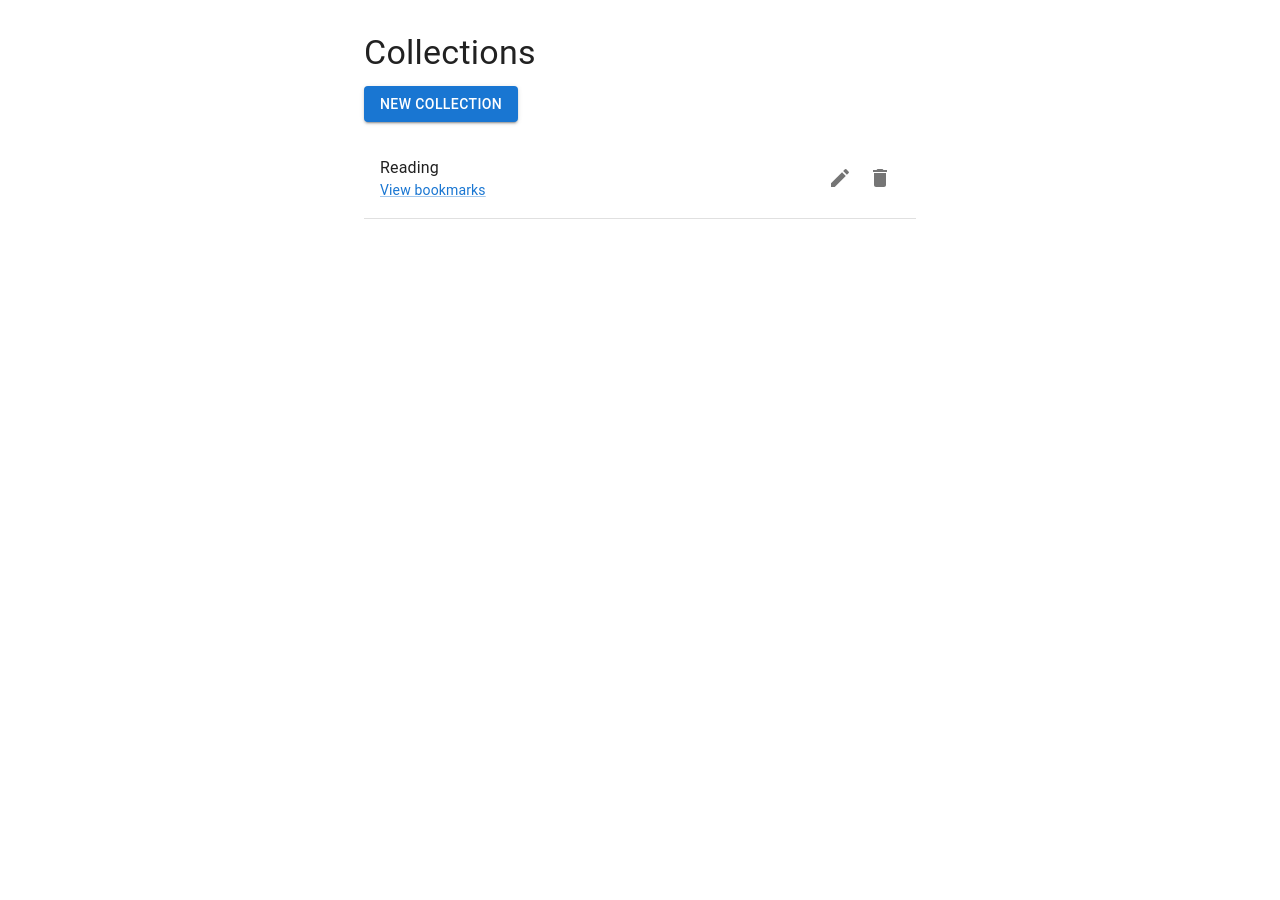
Collections — delete › deletes a collection after confirmation
The width and height of the screenshot is (1280, 900).
expect the text "Reading" is shown: met, box [380, 158, 439, 177]
Click the button named "delete reading".
click(880, 178)  # box [860, 158, 900, 198]
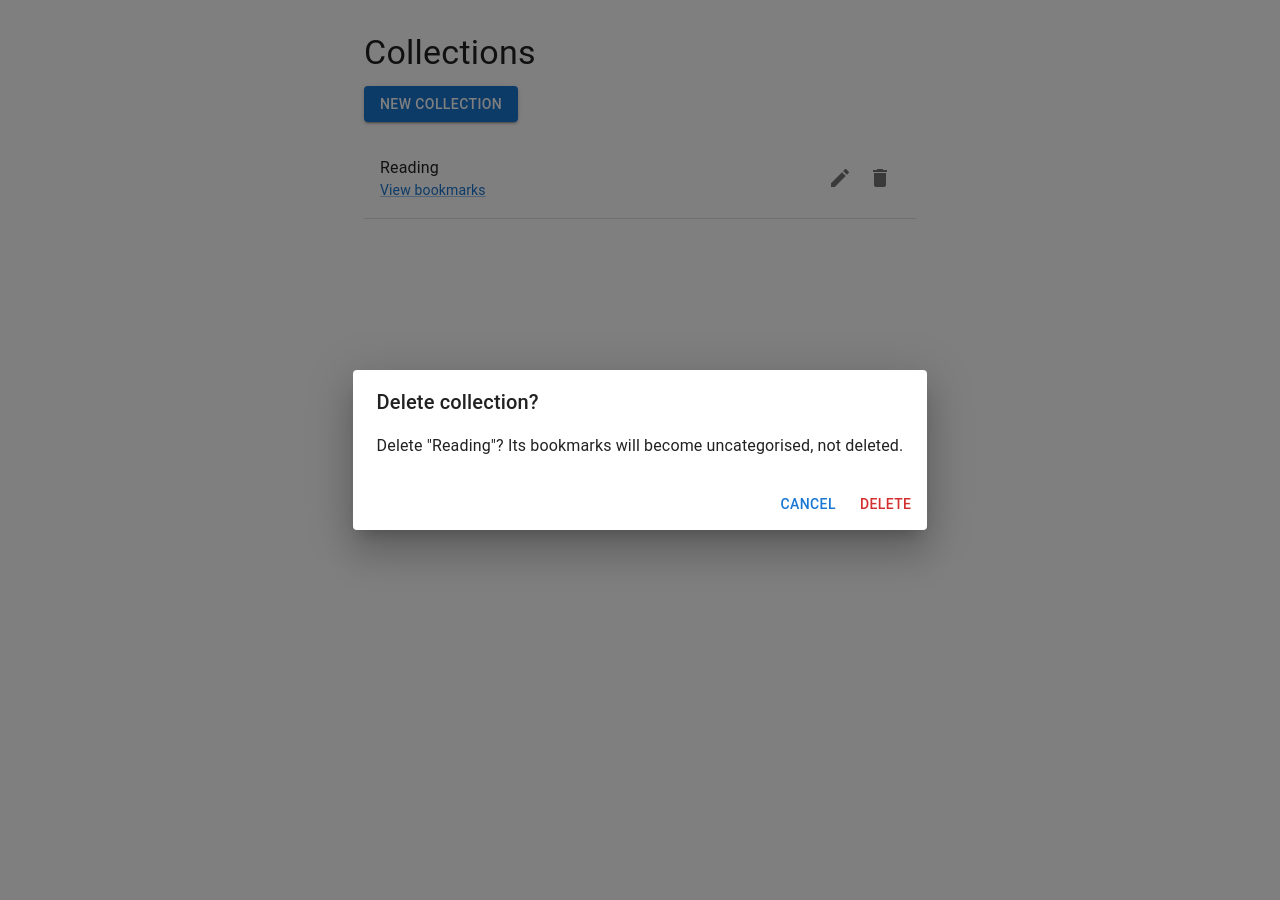
Click the button "Delete".
click(886, 504)  # box [852, 486, 919, 522]
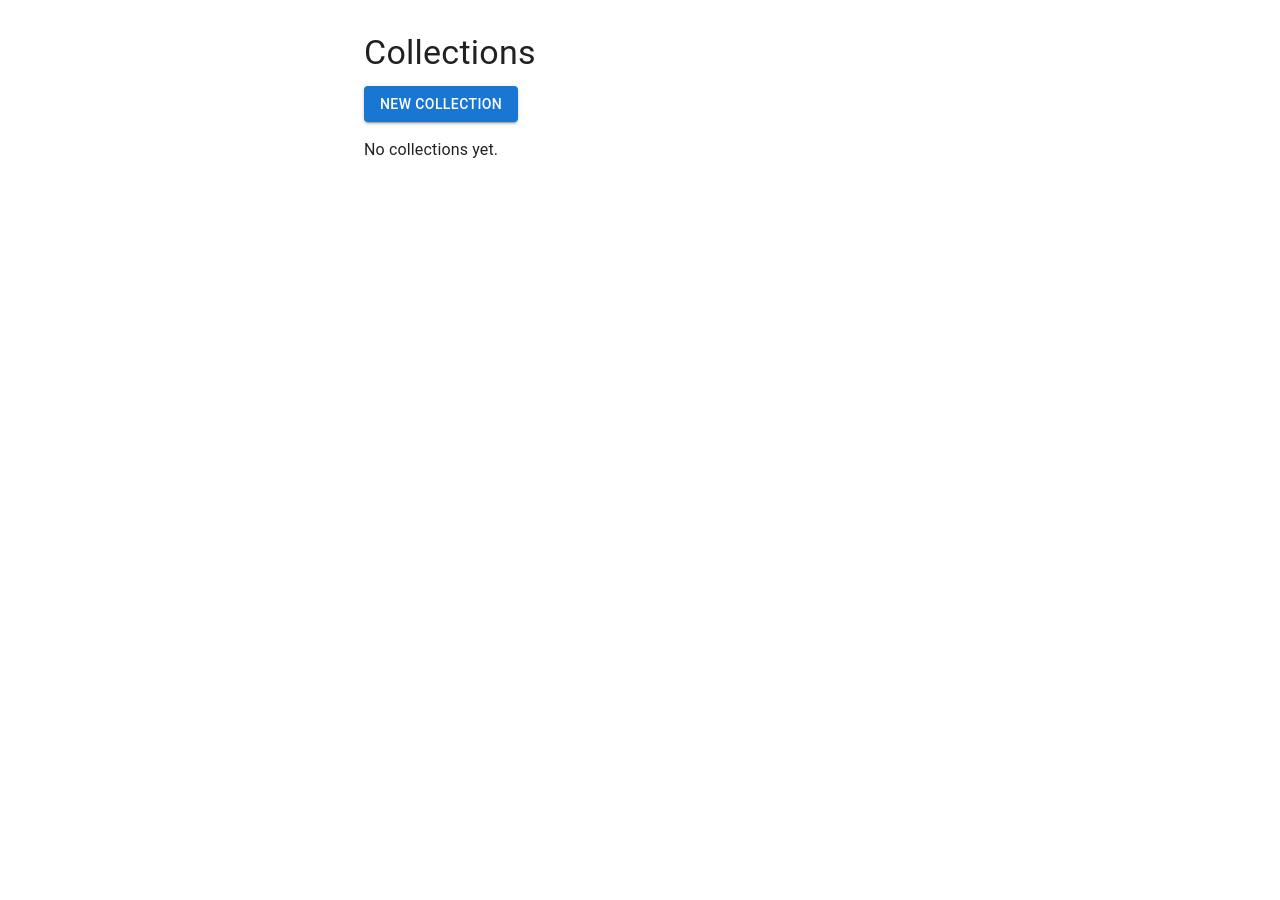
expect the text "No collections yet." is shown: met, box [364, 140, 498, 159]
